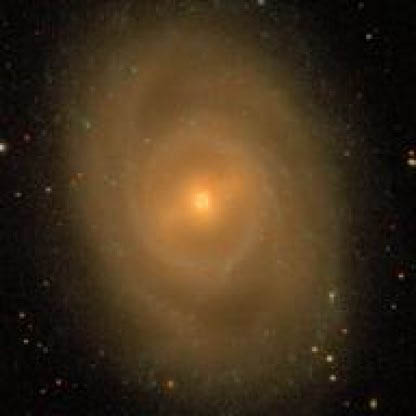Messier 95: (35, 11, 362, 400)
